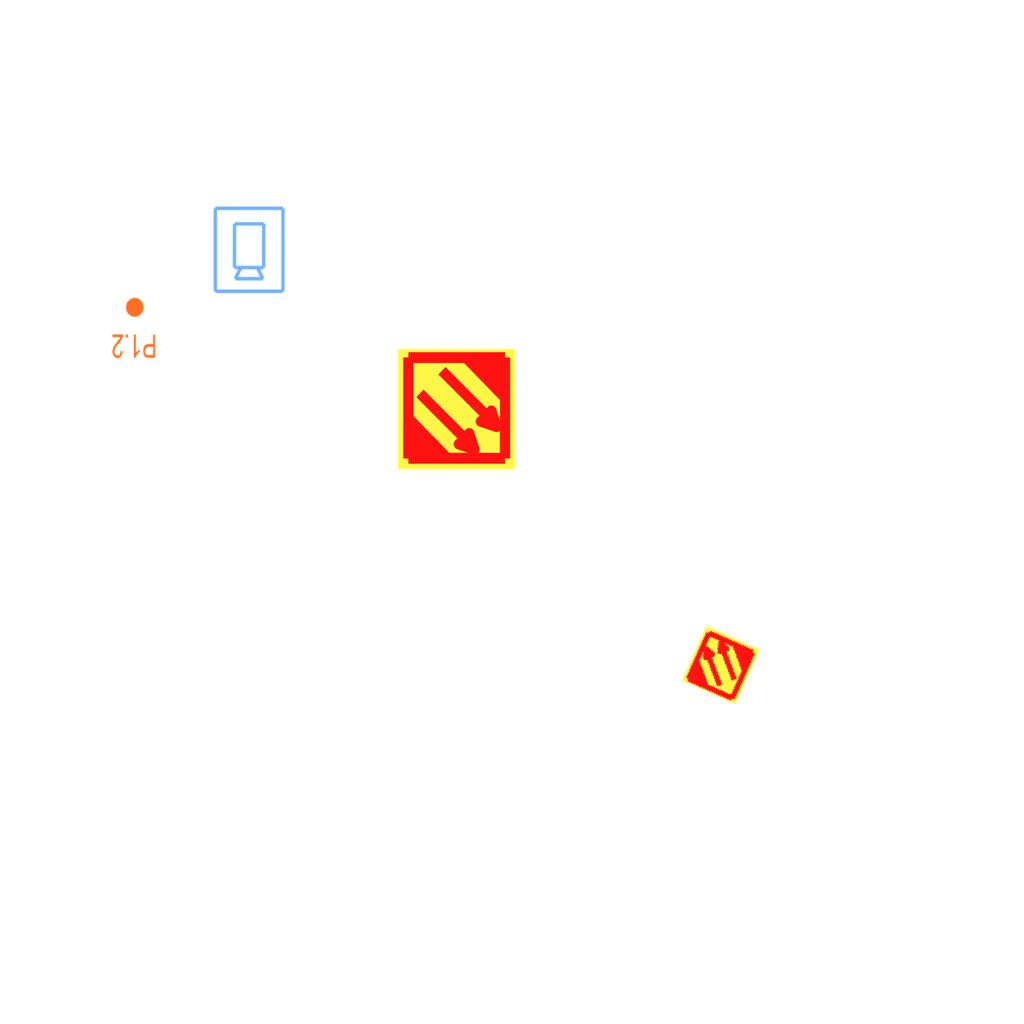ASR_Ansaugrauchmelder: (394, 347, 519, 472), (680, 624, 762, 706)
Downlight_LED_Einbauleuchten_Flur: (111, 296, 157, 360)
KFO_Kamera_mit_Festobjektiv: (210, 204, 287, 295)
